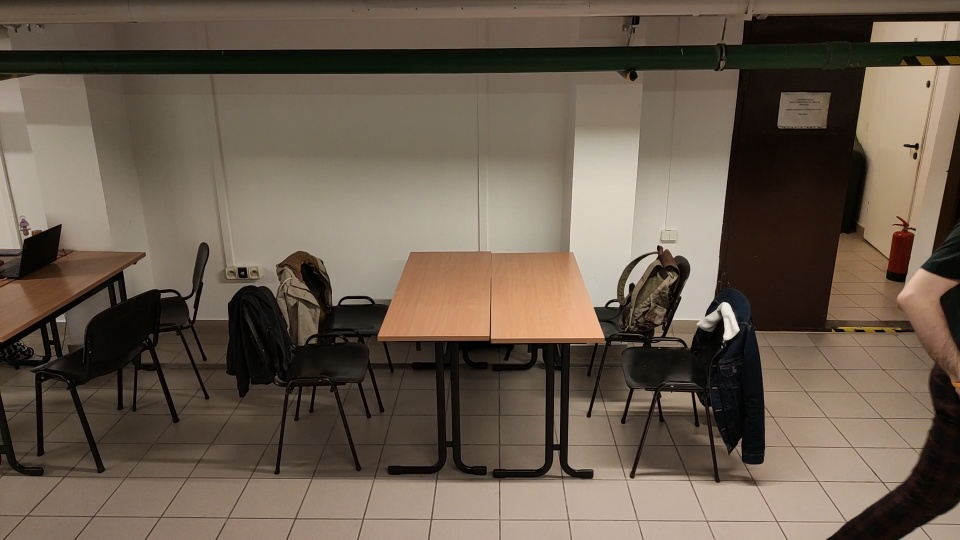chair: (619, 283, 768, 486), (31, 287, 181, 475), (228, 284, 373, 475), (273, 247, 395, 412), (585, 248, 691, 422), (123, 241, 211, 414)
table: (378, 251, 607, 484)
